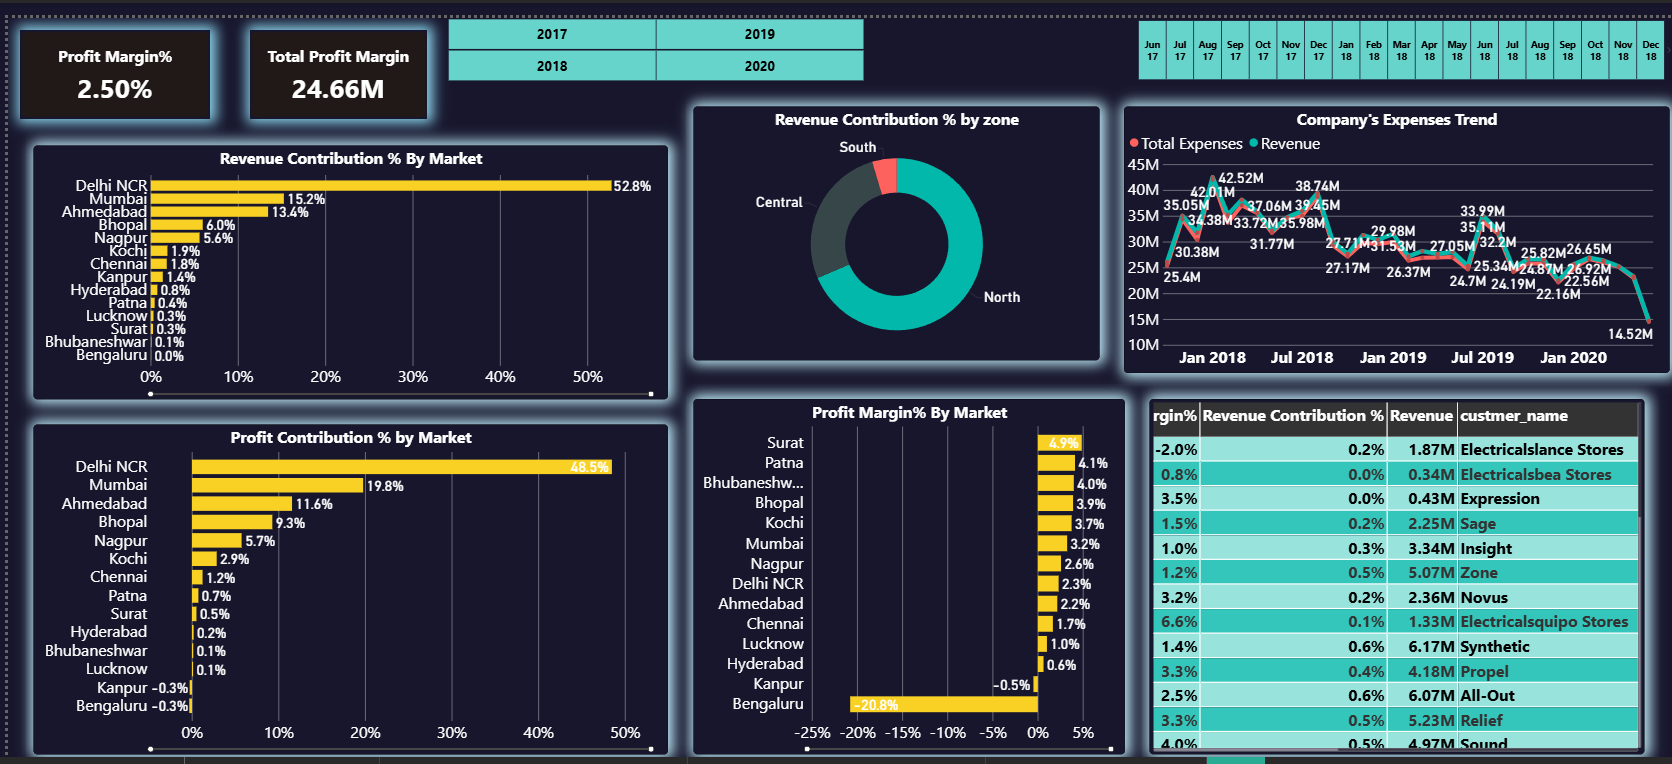

This screenshot's page, from the dashboard's own definition file:
{"tool":"powerbi","page":{"name":"Business Performance Insights ","canvas":[4200,2000],"ordinal":1},"visuals":[{"type":"barChart","title":"Revenue Contribution % By Market","fields":{"Y":["BaseMeasure.Revenue Contribution %"],"Category":["markets.markets_name"]},"box":[675.2,319.4,990.6,671.2],"z":0},{"type":"barChart","title":"Profit Margin% By Market","fields":{"Y":["BaseMeasure.Profit Margin%"],"Category":["markets.markets_name"]},"box":[1728,1072,1088,928],"z":1000},{"type":"slicer","fields":{"Values":["date.cy_date"]},"box":[2826.2,0,1374.7,161.7],"z":2000},{"type":"cardVisual","fields":{"Data":["BaseMeasure.Total Profit Margin"]},"box":[1216,32,448,224],"z":3000},{"type":"cardVisual","fields":{"Data":["BaseMeasure.Profit Margin%"]},"box":[667.1,32.3,485.2,222.4],"z":4000},{"type":"barChart","title":"Profit Contribution % by Market","fields":{"Y":["BaseMeasure.Profit Margin Contribution %"],"Category":["markets.markets_name"]},"box":[672,1040,992,960],"z":5000},{"type":"tableEx","title":"Profit Contribution % by Market","fields":{"Values":["BaseMeasure.Profit Margin Contribution %","BaseMeasure.Profit Margin%","BaseMeasure.Revenue Contribution %","BaseMeasure.Revenue","customers.custmer_name"]},"box":[2911.1,1039.1,1245.3,962.3],"z":6000},{"type":"slicer","fields":{"Values":["date.year"]},"box":[1726.5,0,1099.8,161.7],"z":7000},{"type":"lineChart","title":"Company''s Expenses Trend","fields":{"Category":["date.cy_date.Variation.Date Hierarchy.Year","date.cy_date.Variation.Date Hierarchy.Quarter","date.cy_date.Variation.Date Hierarchy.Month","date.cy_date.Variation.Date Hierarchy.Day"],"Y":["BaseMeasure.Total Expenses","BaseMeasure.Revenue"]},"box":[2784,288,1392,672],"z":8000},{"type":"donutChart","fields":{"Y":["BaseMeasure.Revenue Contribution %"],"Category":["markets.zone"]},"box":[1728,336,960,672],"z":9000},{"type":"shape","box":[0,-48,576,2048],"z":10000},{"type":"image","box":[0,0,576,416],"z":11000},{"type":"actionButton","box":[64,960,448,96],"z":12000},{"type":"actionButton","box":[32,1152,480,128],"z":13000},{"type":"actionButton","box":[96,1376,384,96],"z":14000},{"type":"image","box":[32,704,512,160],"z":15000}]}

Visuals, with their boxes on the page's 4200x2000 design canvas (x1, y1, x2, y2). These are canvas units, not pixel positions in the 1672x764 screenshot, which may show the page scaled, cropped or inside an application window:
"Revenue Contribution % By Market" barChart: <region>675, 319, 1666, 991</region>
"Profit Margin% By Market" barChart: <region>1728, 1072, 2816, 2000</region>
slicer - date.cy_date: <region>2826, 0, 4201, 162</region>
cardVisual - BaseMeasure.Total Profit Margin: <region>1216, 32, 1664, 256</region>
cardVisual - BaseMeasure.Profit Margin%: <region>667, 32, 1152, 255</region>
"Profit Contribution % by Market" barChart: <region>672, 1040, 1664, 2000</region>
"Profit Contribution % by Market" tableEx: <region>2911, 1039, 4156, 2001</region>
slicer - date.year: <region>1726, 0, 2826, 162</region>
"Company''s Expenses Trend" lineChart: <region>2784, 288, 4176, 960</region>
donutChart - BaseMeasure.Revenue Contribution % x markets.zone: <region>1728, 336, 2688, 1008</region>
shape: <region>0, -48, 576, 2000</region>
image: <region>0, 0, 576, 416</region>
actionButton: <region>64, 960, 512, 1056</region>
actionButton: <region>32, 1152, 512, 1280</region>
actionButton: <region>96, 1376, 480, 1472</region>
image: <region>32, 704, 544, 864</region>
